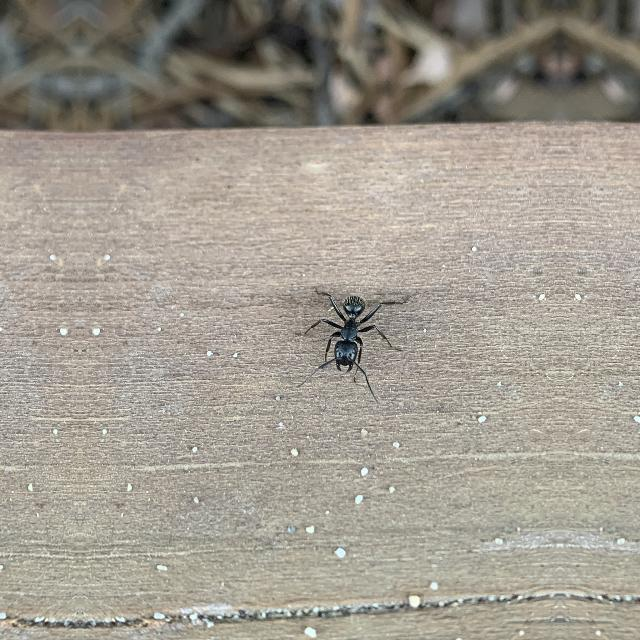Camponotus: (305, 276, 395, 382)
